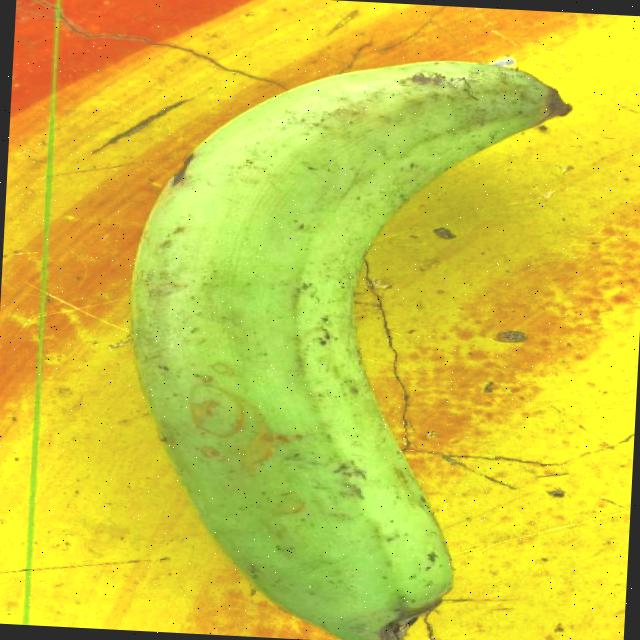Raw: (43, 17, 640, 640)
